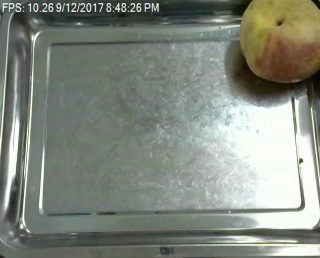Peach: (239, 0, 320, 83)
